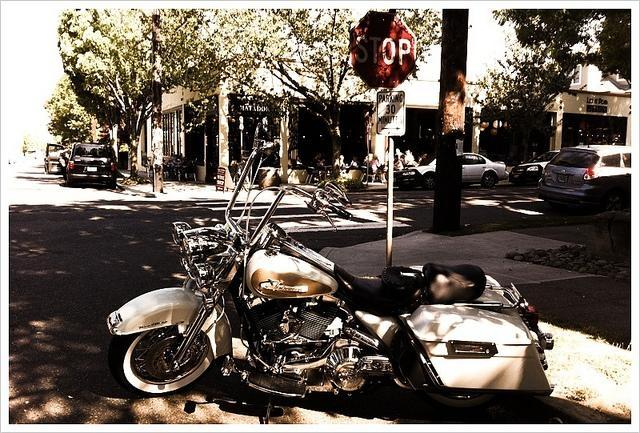car: (536, 144, 632, 212), (399, 152, 508, 192), (65, 142, 115, 190), (509, 148, 560, 187)
motorcycle: (105, 143, 542, 396)
